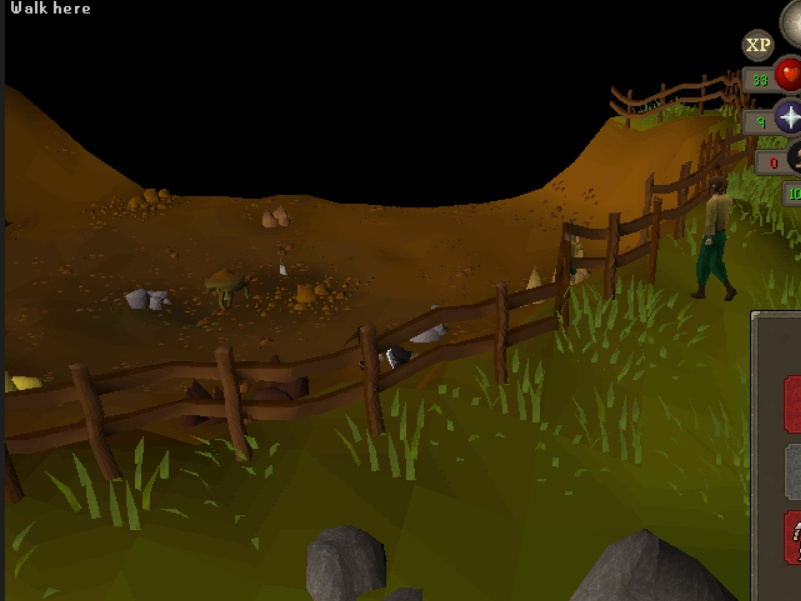clay: (511, 261, 553, 309)
copper: (257, 201, 302, 230)
gold: (1, 366, 50, 399)
iron: (246, 350, 317, 408), (169, 372, 240, 430)
tin: (401, 299, 463, 355)
